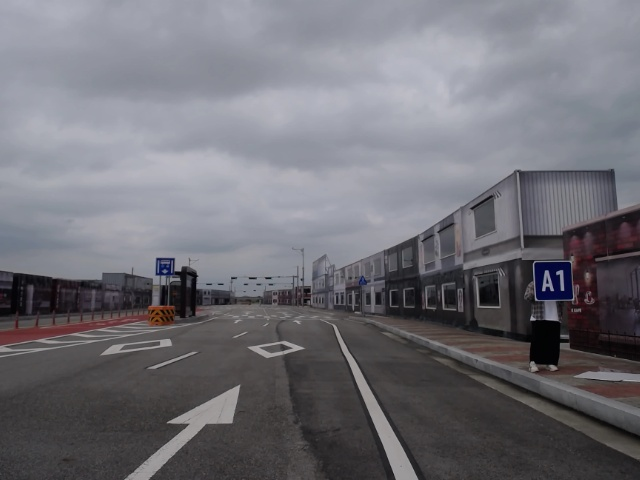delivery_a1: (533, 261, 574, 302)
